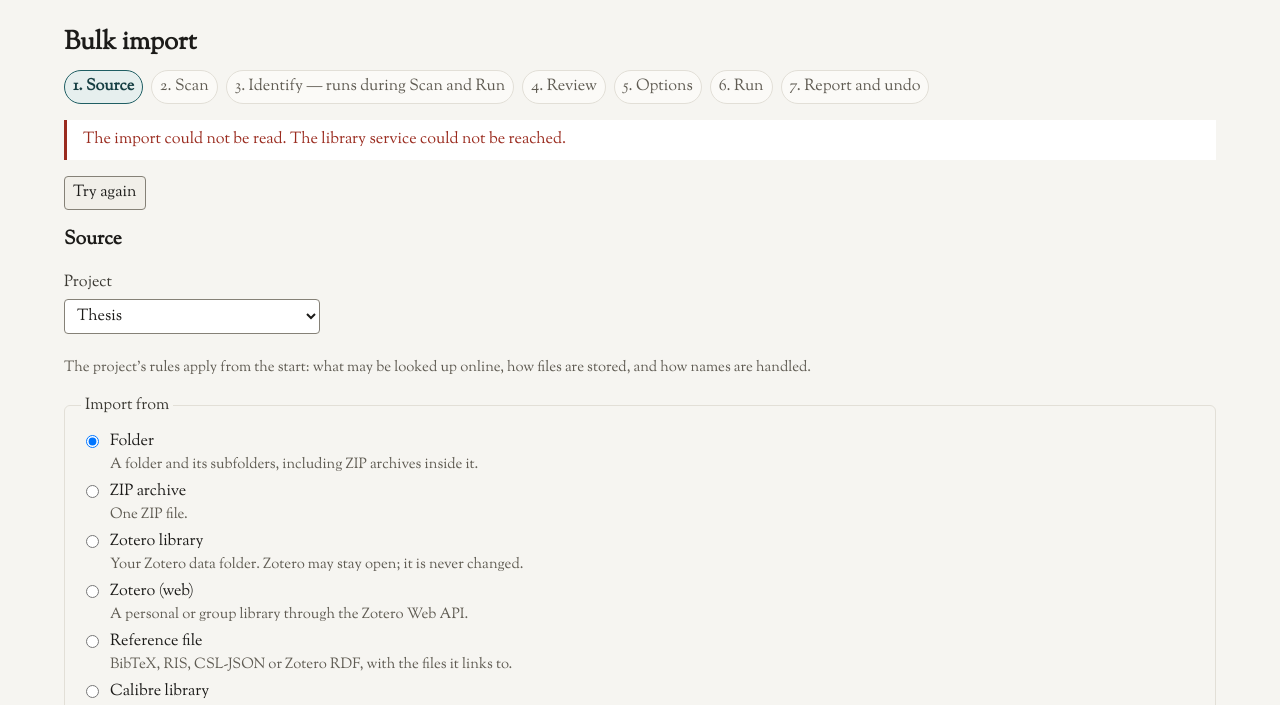
Test: Import wizard: first reads that never settle or fail (FR-756) › an opening that fails for want of an answer keeps its words, “could not be reached”, and now offers “Try again”
Click the button "Try again" at (105, 193), box [64,176,146,210]
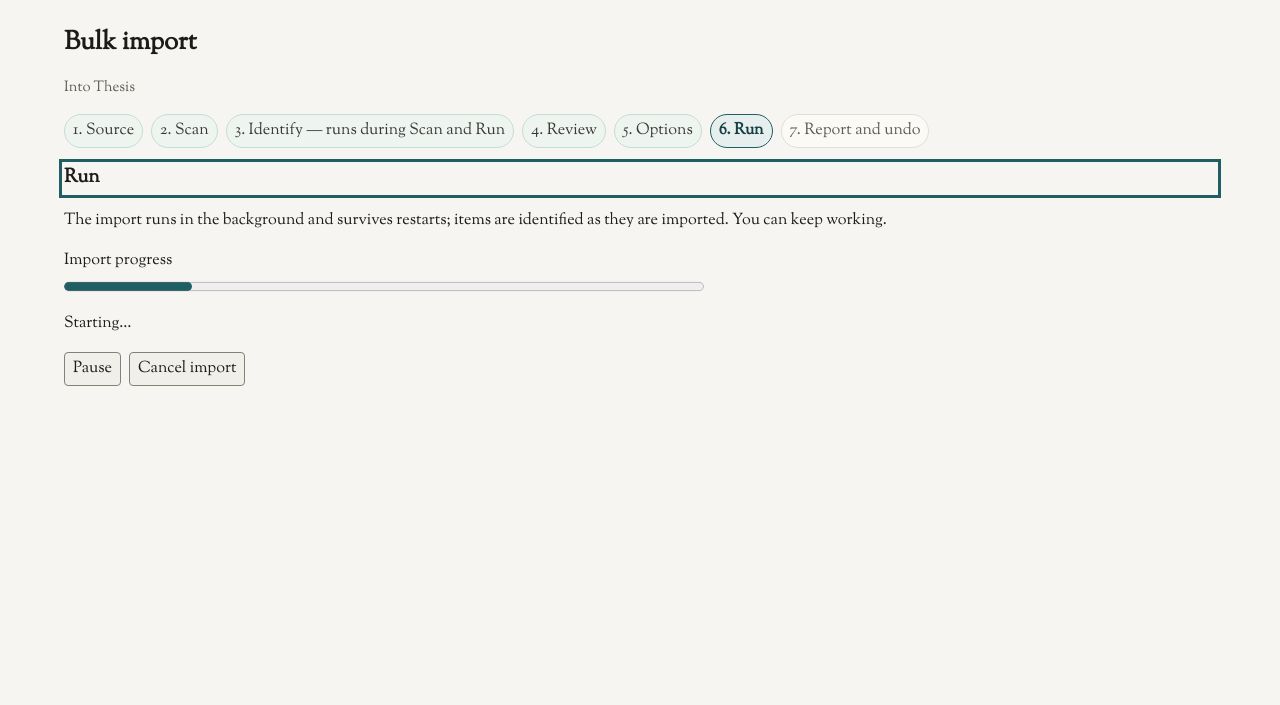
Expected: the heading "Run" is shown, [64,164,100,191]
